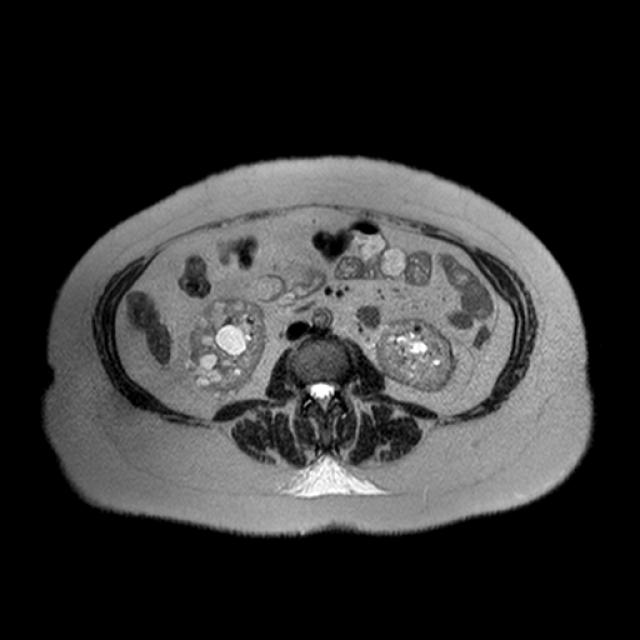sag: (186, 296, 271, 401)
sol: (373, 315, 457, 393)
